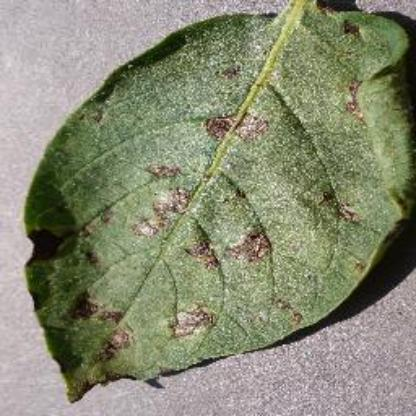Early-Blight: (23, 1, 415, 400)
